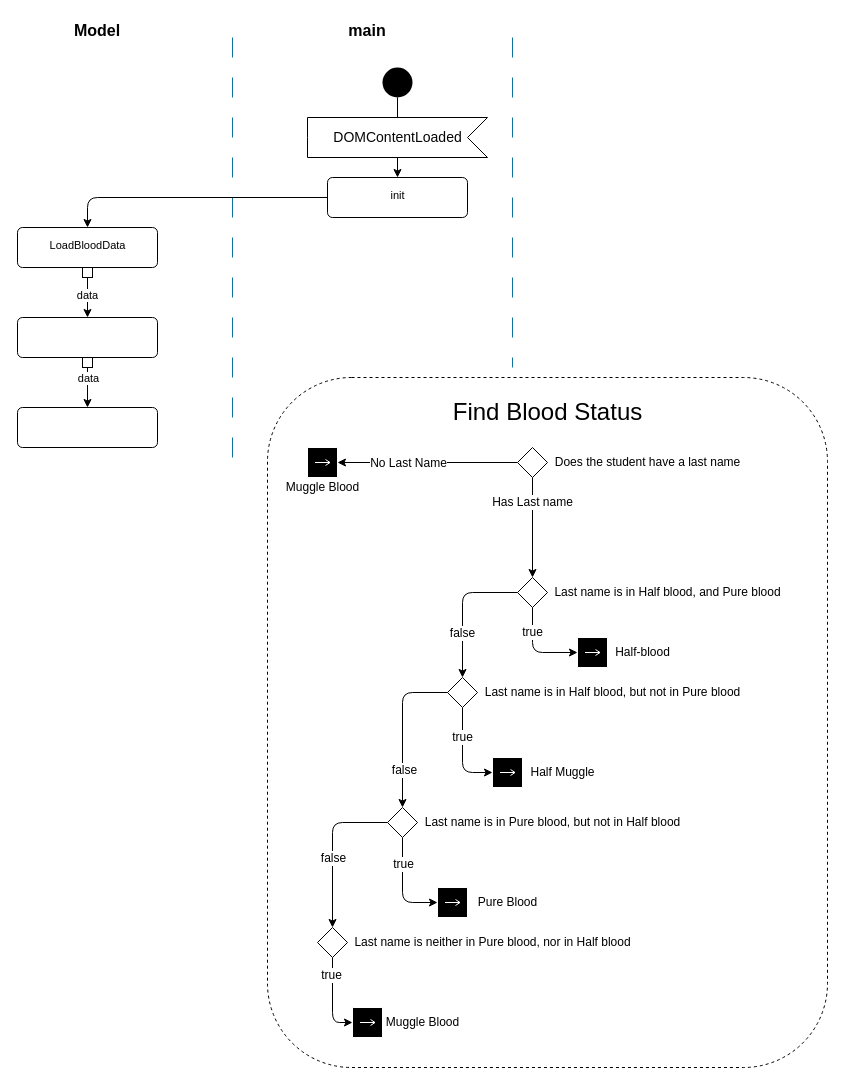
This 845x1085 diagram has some shape labels left out. The shapes that lost their labels are listed below. From the top down, each one's box as (x1, y1, x2, y2) in pixels, then its label:
(16, 316, 158, 358): populateStudents
(16, 406, 158, 448): findBloodStatus
